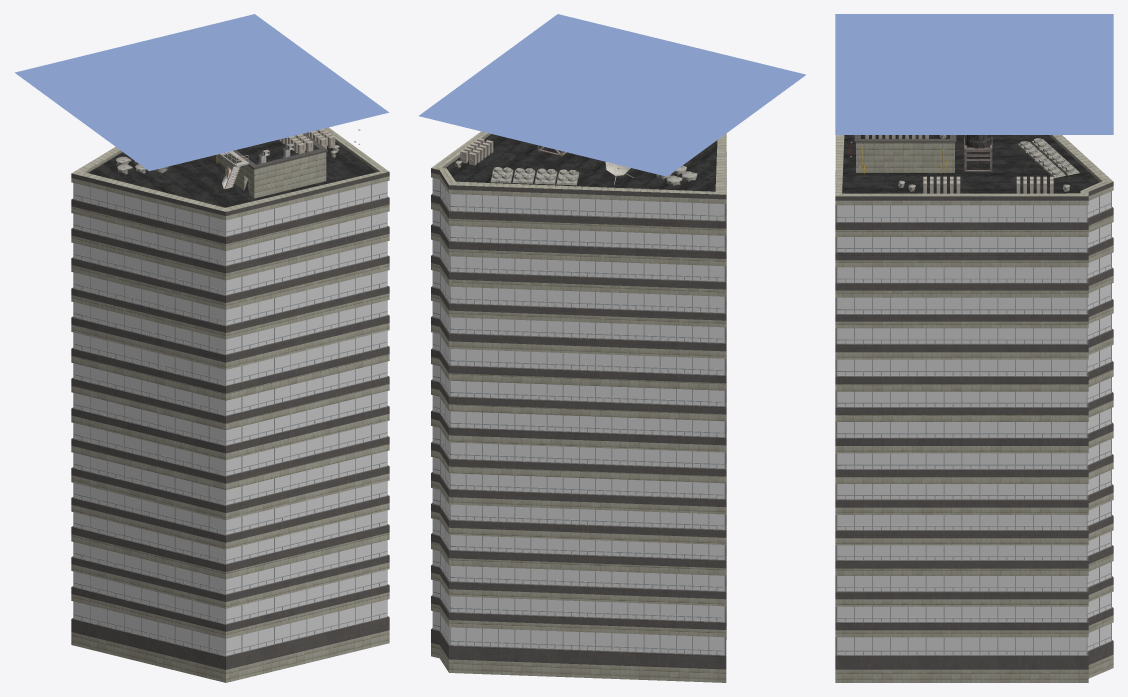
File: KB3D_NEC_BldgLG_A_Main_H63.glb
3 renders of one model, left to right at view 1: azimuth 30°, elevation 25°; view 2: azimuth 150°, elevation 25°; view 3: azimuth 270°, elevation 25°, orthographic. The views are drawn at different scales.
Parts seen in each view (by area): view 1: KB3D_NEC_BldgLG_A_Main, roof_cap_node; view 2: KB3D_NEC_BldgLG_A_Main, roof_cap_node; view 3: KB3D_NEC_BldgLG_A_Main, roof_cap_node.
Part boxes in pixels (x1,y1,x2,y2): KB3D_NEC_BldgLG_A_Main: (71, 127, 389, 682); roof_cap_node: (15, 14, 388, 171); KB3D_NEC_BldgLG_A_Main: (431, 131, 726, 682); roof_cap_node: (419, 14, 805, 176); KB3D_NEC_BldgLG_A_Main: (835, 135, 1113, 682); roof_cap_node: (835, 14, 1113, 134).
Size of the model in its own units: 29.86 by 63 by 28.99.
Materials: 14 (12 with a texture image).
